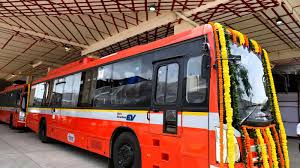bus: (24, 26, 278, 168), (1, 80, 28, 132)
